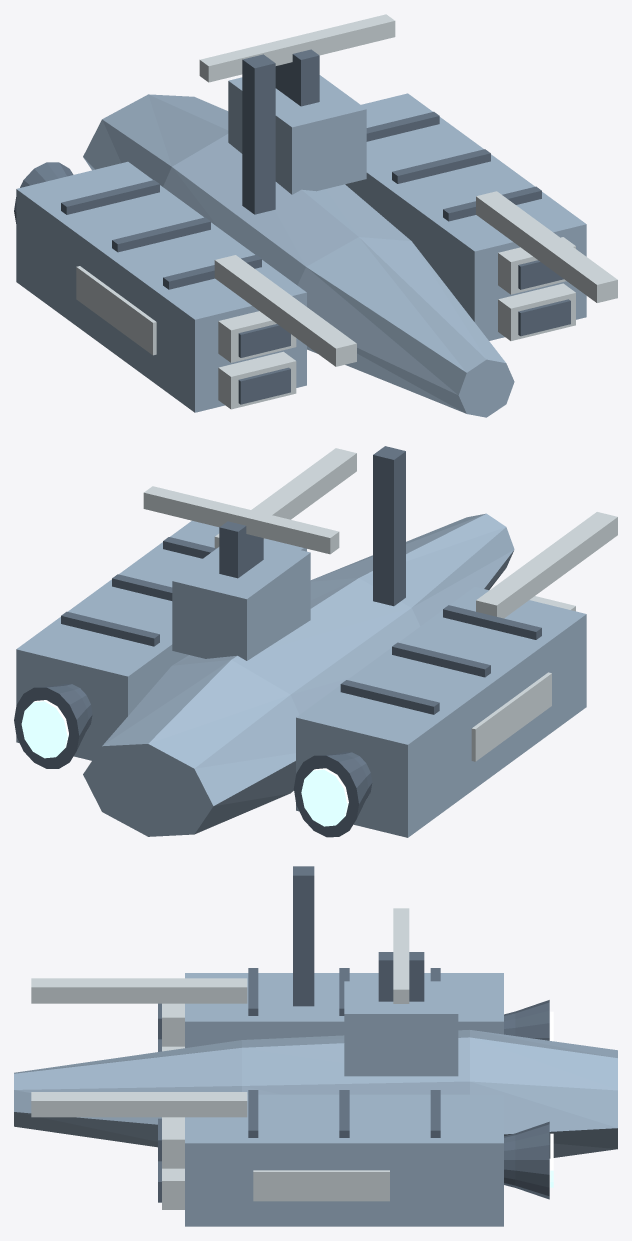
3 views of the same model, one above another, from view 1: azimuth 30°, elevation 25°; view 2: azimuth 150°, elevation 25°; view 3: azimuth 270°, elevation 25° (orthographic). The views are drawn at different scales.
Bounding box in the file's own units: 9.13 × 6.54 × 13.41.
